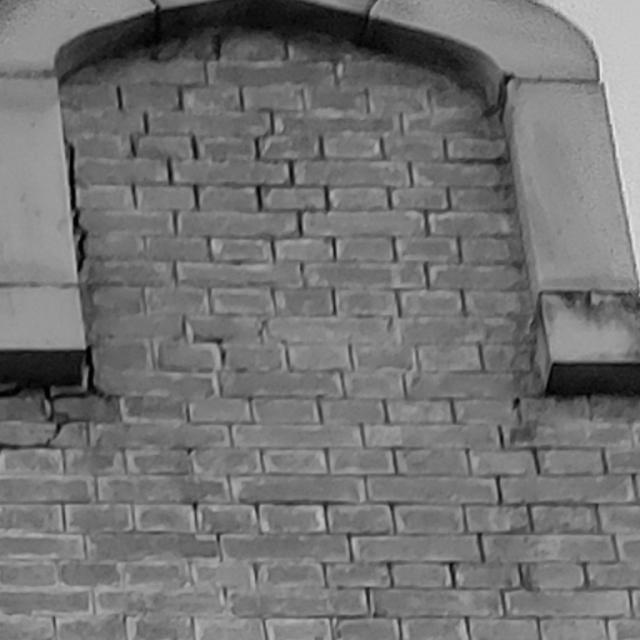crack: (1, 343, 106, 449), (64, 138, 88, 272)
